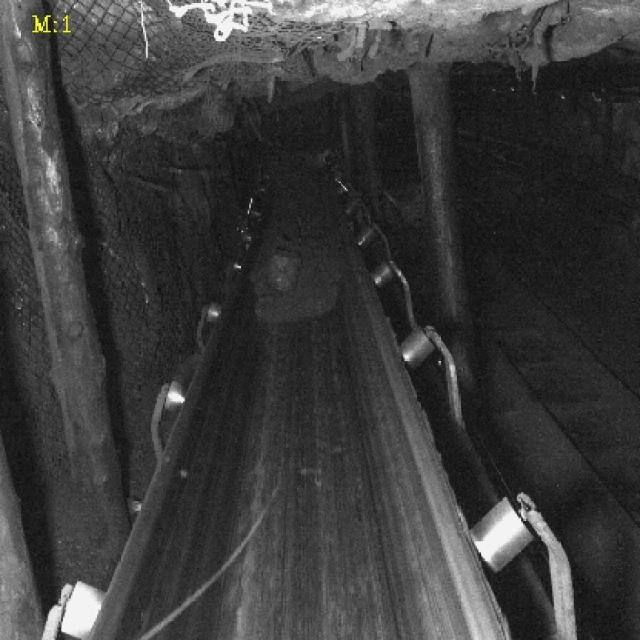bolt: (146, 492, 280, 640)
large_sized_coal: (265, 247, 297, 296)
